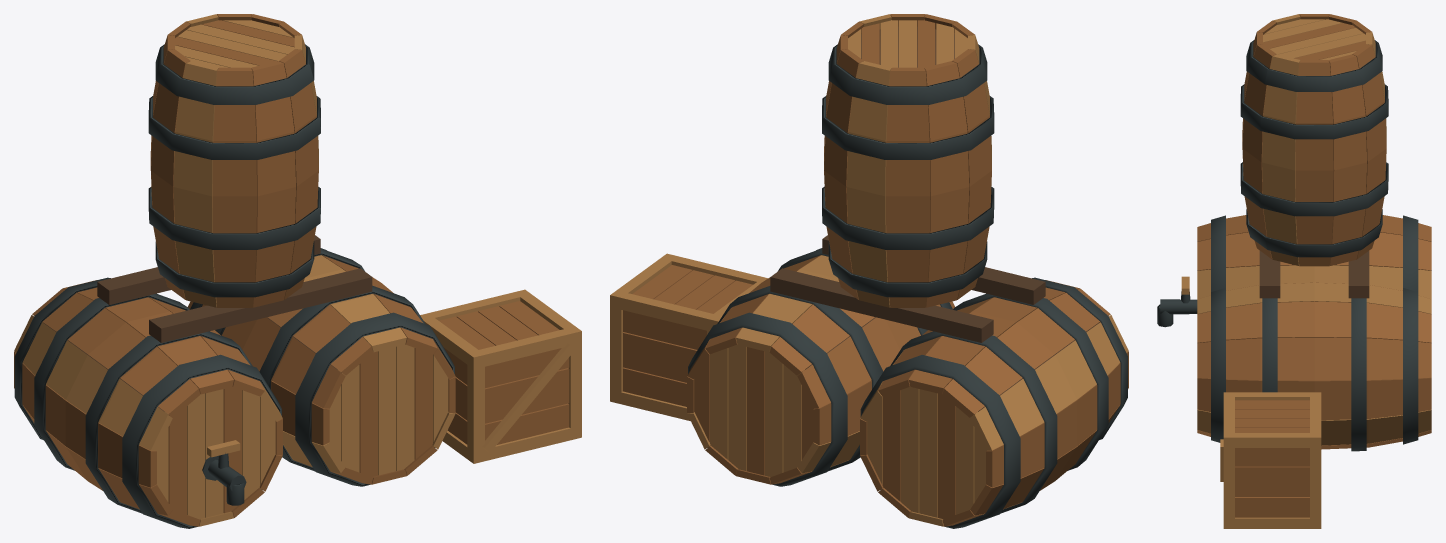
Rendered from tong.glb.
3 renders of one model, left to right at view 1: azimuth 30°, elevation 25°; view 2: azimuth 150°, elevation 25°; view 3: azimuth 270°, elevation 25°, orthographic. The views are drawn at different scales.
Parts seen in each view (by area): view 1: barrelstack.upper.body, barrelstack.left.body, barrelstack.right.body, barrelstack.right.front, barrelstack.left.front, barrelstack.crate.panels, barrelstack.crate.frame, barrelstack.supports.rail2, barrelstack.upper.front, barrelstack.right.hoops.band4, barrelstack.left.hoops.band4, barrelstack.upper.hoops.band4 (+9 smaller); view 2: barrelstack.upper.body, barrelstack.left.body, barrelstack.right.body, barrelstack.right.back, barrelstack.left.back, barrelstack.crate.panels, barrelstack.crate.frame, barrelstack.supports.rail1, barrelstack.upper.front, barrelstack.left.hoops.band1, barrelstack.right.hoops.band1, barrelstack.upper.hoops.band4 (+8 smaller); view 3: barrelstack.right.body, barrelstack.upper.body, barrelstack.crate.panels, barrelstack.left.body, barrelstack.crate.frame, barrelstack.upper.front, barrelstack.upper.hoops.band4, barrelstack.upper.hoops.band3, barrelstack.right.hoops.band2, barrelstack.right.hoops.band1, barrelstack.upper.hoops.band2, barrelstack.right.hoops.band4 (+7 smaller).
Boxes of the visible parts, x1=… form: barrelstack.upper.body: x1=150, y1=14, x2=318, y2=307; barrelstack.left.body: x1=14, y1=280, x2=282, y2=526; barrelstack.right.body: x1=188, y1=255, x2=455, y2=484; barrelstack.right.front: x1=329, y1=344, x2=448, y2=476; barrelstack.left.front: x1=156, y1=386, x2=275, y2=519; barrelstack.crate.panels: x1=439, y1=301, x2=569, y2=444; barrelstack.crate.frame: x1=420, y1=289, x2=581, y2=463; barrelstack.supports.rail2: x1=149, y1=268, x2=372, y2=342; barrelstack.upper.front: x1=175, y1=20, x2=294, y2=68; barrelstack.right.hoops.band4: x1=295, y1=312, x2=454, y2=486; barrelstack.left.hoops.band4: x1=122, y1=354, x2=281, y2=528; barrelstack.upper.hoops.band4: x1=155, y1=44, x2=314, y2=104; barrelstack.upper.body: x1=824, y1=14, x2=991, y2=307; barrelstack.left.body: x1=860, y1=280, x2=1128, y2=526; barrelstack.right.body: x1=687, y1=255, x2=954, y2=484; barrelstack.right.back: x1=694, y1=344, x2=813, y2=476; barrelstack.left.back: x1=867, y1=386, x2=985, y2=519; barrelstack.crate.panels: x1=623, y1=265, x2=752, y2=406; barrelstack.crate.frame: x1=610, y1=253, x2=767, y2=421; barrelstack.supports.rail1: x1=770, y1=268, x2=993, y2=342; barrelstack.upper.front: x1=848, y1=20, x2=967, y2=67; barrelstack.left.hoops.band1: x1=860, y1=355, x2=1020, y2=528; barrelstack.right.hoops.band1: x1=688, y1=312, x2=847, y2=486; barrelstack.upper.hoops.band4: x1=828, y1=44, x2=987, y2=104; barrelstack.right.body: x1=1197, y1=282, x2=1431, y2=449; barrelstack.upper.body: x1=1242, y1=14, x2=1386, y2=266; barrelstack.crate.panels: x1=1235, y1=400, x2=1309, y2=517; barrelstack.left.body: x1=1197, y1=215, x2=1431, y2=299; barrelstack.crate.frame: x1=1223, y1=392, x2=1321, y2=528; barrelstack.upper.front: x1=1263, y1=19, x2=1365, y2=60; barrelstack.upper.hoops.band4: x1=1246, y1=40, x2=1382, y2=91; barrelstack.upper.hoops.band3: x1=1240, y1=84, x2=1388, y2=139; barrelstack.right.hoops.band2: x1=1351, y1=298, x2=1366, y2=451; barrelstack.right.hoops.band1: x1=1403, y1=288, x2=1418, y2=444; barrelstack.upper.hoops.band2: x1=1240, y1=162, x2=1388, y2=216; barrelstack.right.hoops.band4: x1=1211, y1=288, x2=1225, y2=442.
Size of the model in its own units: 1.85 by 1.63 by 1.1.
